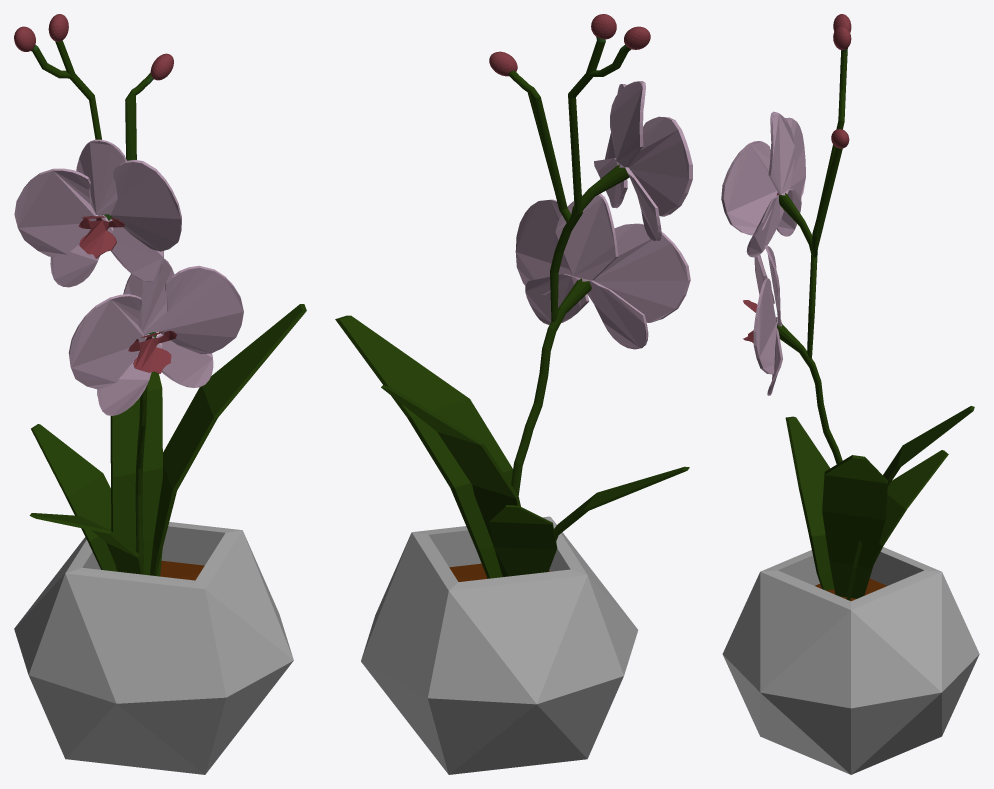
File: orchid.gltf
The picture shows the model from 3 angles, left to right: view 1: azimuth 30°, elevation 25°; view 2: azimuth 150°, elevation 25°; view 3: azimuth 270°, elevation 25°; orthographic projection. The views are drawn at different scales.
Parts seen in each view (by area): view 1: node-0; view 2: node-0; view 3: node-0.
Boxes of the visible parts, x1,y1,x2,y2 form: node-0: [14, 14, 306, 774]; node-0: [335, 14, 692, 774]; node-0: [721, 14, 979, 774].
Bounding box in the file's own units: 0.2575 × 0.5689 × 0.1995.
